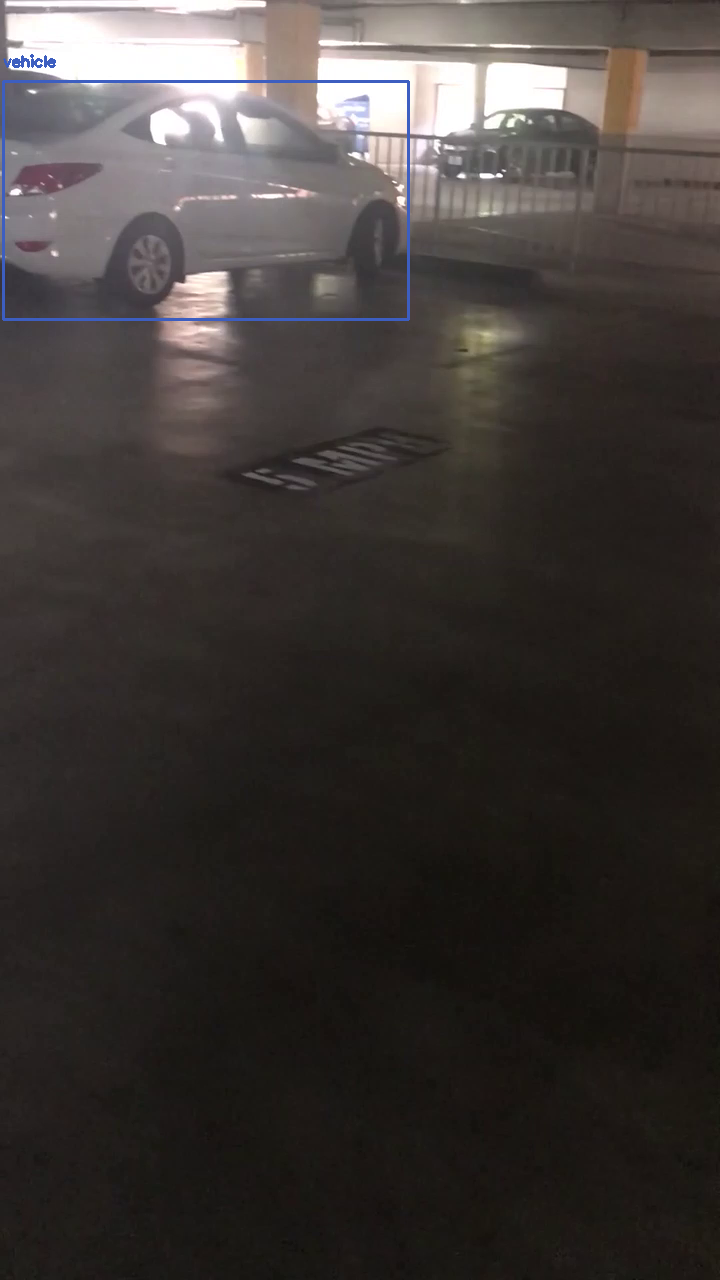vehicle: (3, 81, 408, 319)
